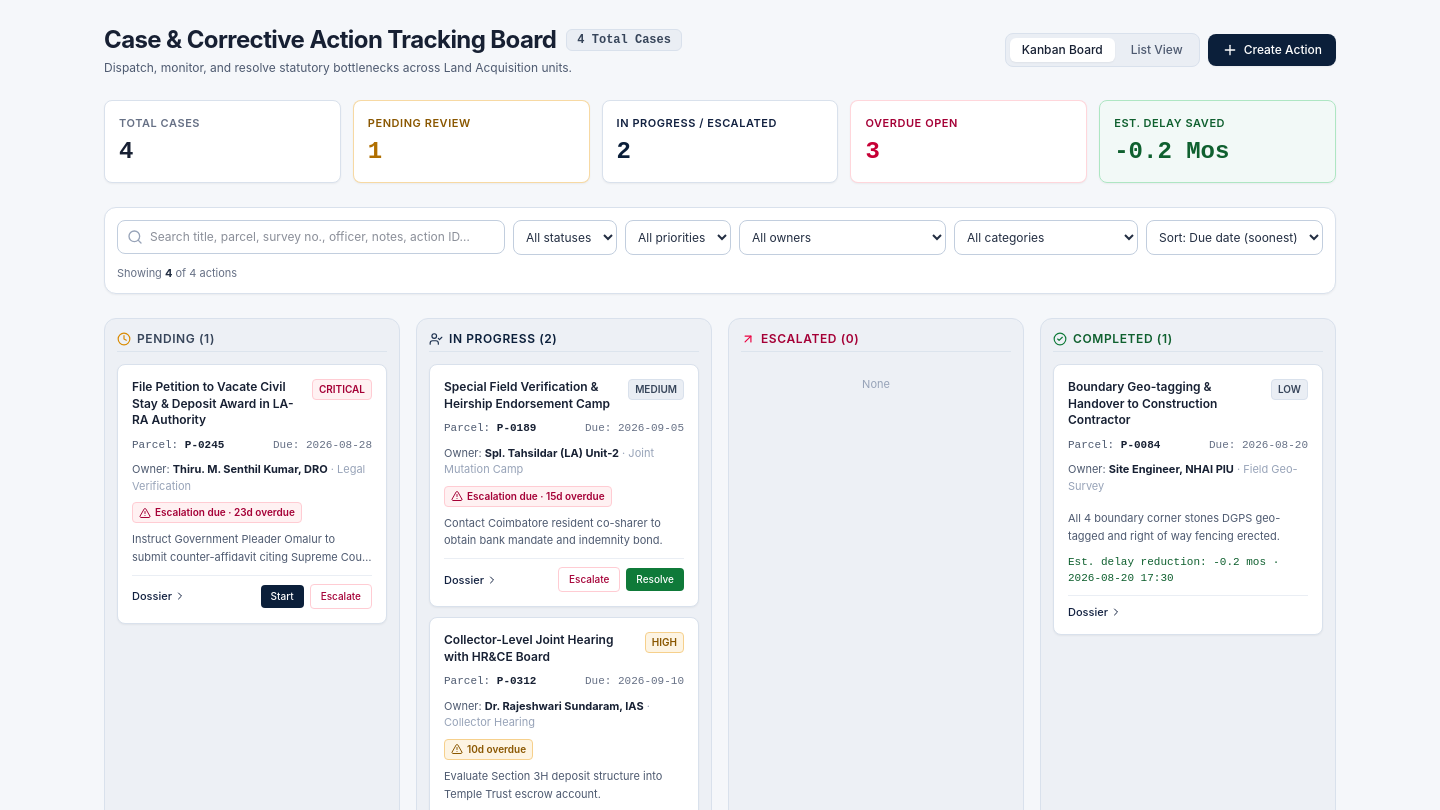
Test case: ActionsView search / filter / sort › filters by search text and shows an empty state with a working clear
Type "zzz-no-such-action" into the search field named "Search actions" at (311, 236), box [117, 220, 505, 254]
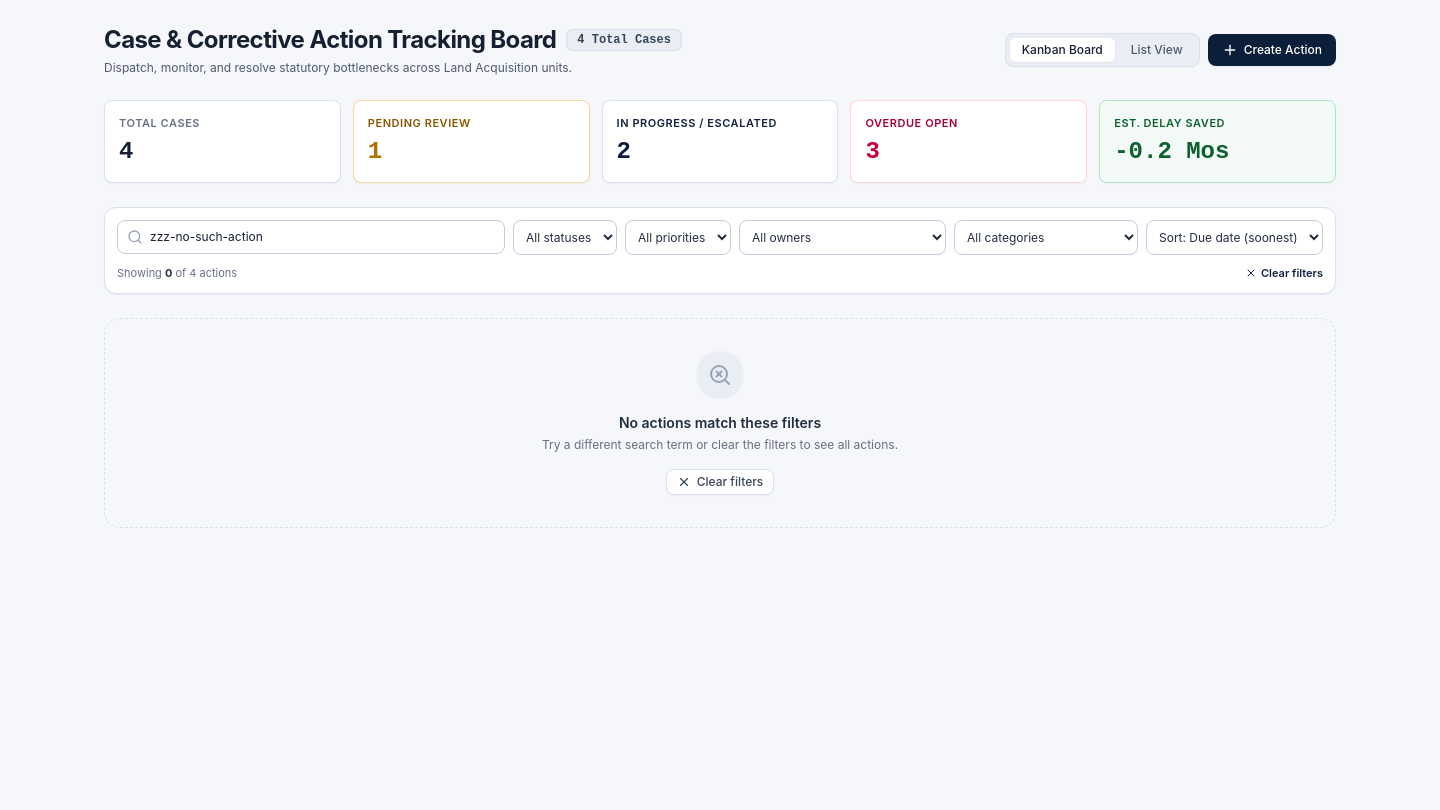
Expected: the heading "No actions match these filters" is shown, [619, 413, 821, 433]
Click the button "Clear filters" in the row of "of" at (1284, 273), box [1245, 264, 1323, 281]
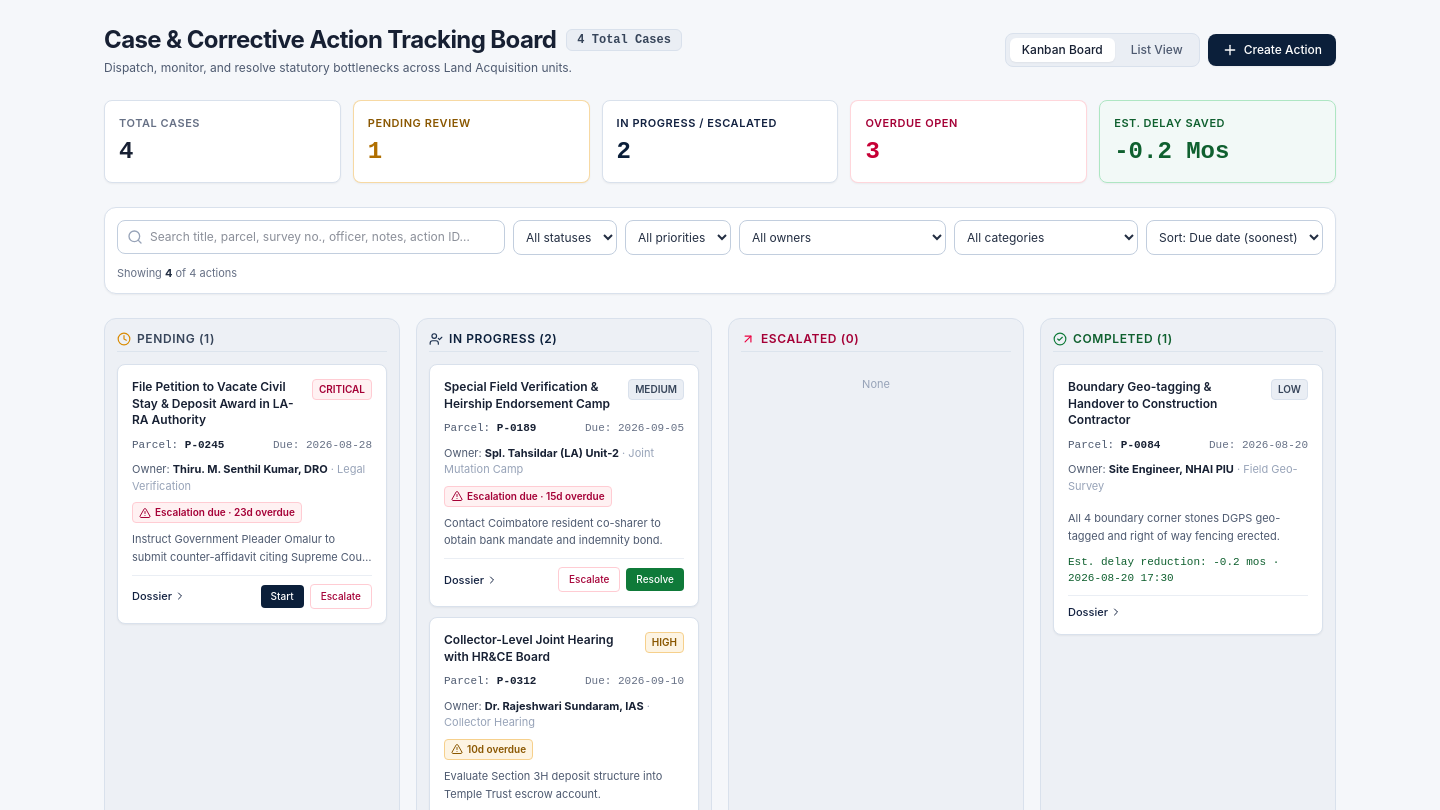
Expected: the heading "No actions match these filters" is gone
